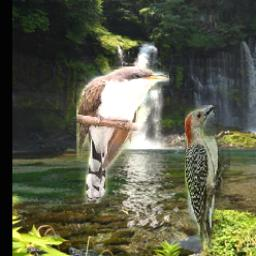Cuckoo: (76, 66, 169, 204)
Woodpecker: (185, 105, 230, 256)
